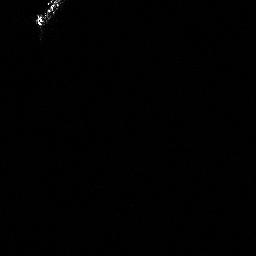ship: (34, 1, 65, 29)
